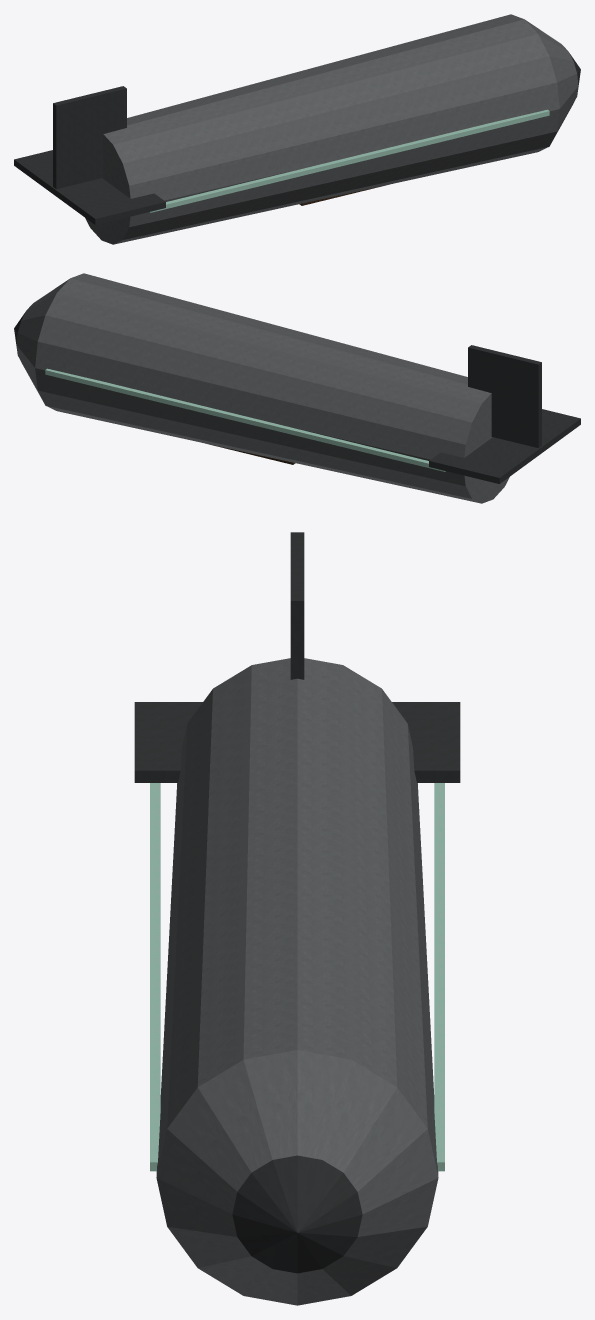
The model's file is frost_airship_wreck_01.glb.
The picture shows the model from 3 angles, top to bottom: view 1: azimuth 30°, elevation 25°; view 2: azimuth 150°, elevation 25°; view 3: azimuth 270°, elevation 25°; orthographic projection. The views are drawn at different scales.
Parts seen in each view (by area): view 1: frost_airship_wreck_01; view 2: frost_airship_wreck_01; view 3: frost_airship_wreck_01.
Part boxes in pixels (x1=…): frost_airship_wreck_01: x1=14, y1=14, x2=580, y2=244; frost_airship_wreck_01: x1=14, y1=273, x2=580, y2=503; frost_airship_wreck_01: x1=134, y1=532, x2=460, y2=1305.
Size of the model in its own units: 22.4 by 6.4 by 6.
5 materials, 5 textured.
